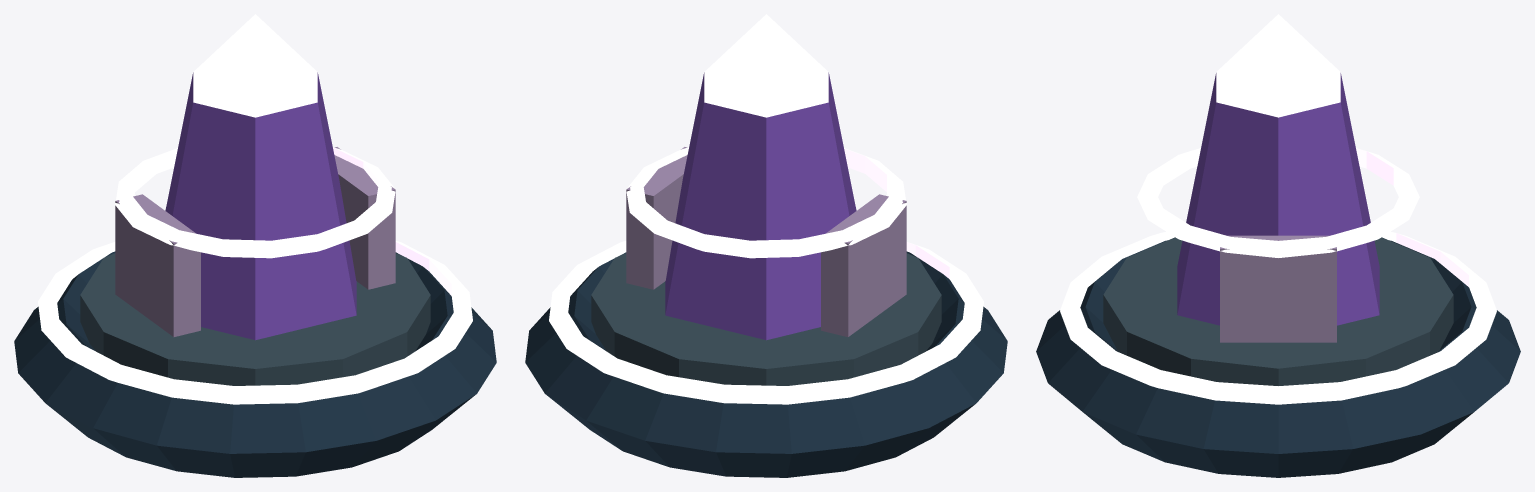
File: energy.glb
The picture shows the model from 3 angles, left to right: view 1: azimuth 30°, elevation 25°; view 2: azimuth 150°, elevation 25°; view 3: azimuth 270°, elevation 25°; orthographic projection.
Visible parts, largest first — view 1: energy; view 2: energy; view 3: energy.
Part boxes in pixels (x1=…): energy: x1=14, y1=14, x2=496, y2=477; energy: x1=525, y1=14, x2=1007, y2=477; energy: x1=1036, y1=14, x2=1520, y2=477.
Size of the model in its own units: 1.08 by 0.94 by 1.08.
